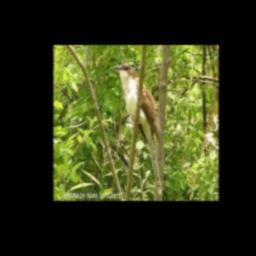Cuckoo: (113, 62, 162, 196)
